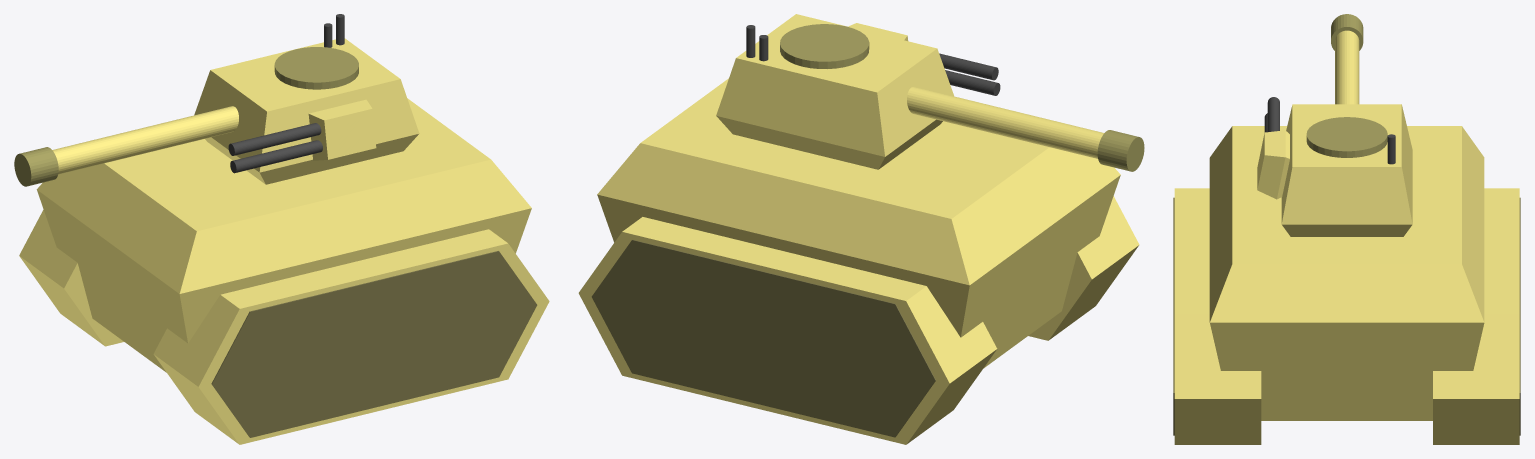
Rendered from doonTank.gltf.
The picture shows the model from 3 angles, left to right: view 1: azimuth 30°, elevation 25°; view 2: azimuth 150°, elevation 25°; view 3: azimuth 270°, elevation 25°; orthographic projection. The views are drawn at different scales.
Parts seen in each view (by area): view 1: Cube.003, Cube.006, Cube.001, Cube.004, Cylinder.001, Cube.002, Cylinder, Cube.005, Cylinder.002, Cylinder.003, Cylinder.004; view 2: Cube.003, Cube.007, Cube.004, Cube.002, Cylinder.001, Cube.001, Cylinder, Cylinder.002, Cylinder.003, Cylinder.004; view 3: Cube.003, Cube.004, Cube.001, Cube.002, Cylinder, Cube.005, Cylinder.001, Cylinder.002, Cube.006, Cube.007, Cylinder.003.
Boxes of the visible parts, left/top/right/bottom form: Cube.003: left=36, top=98, right=531, bottom=372; Cube.006: left=211, top=251, right=537, bottom=437; Cube.001: left=153, top=229, right=549, bottom=444; Cube.004: left=194, top=38, right=419, bottom=184; Cylinder.001: left=52, top=106, right=238, bottom=174; Cube.002: left=19, top=209, right=123, bottom=346; Cylinder: left=274, top=47, right=358, bottom=89; Cube.005: left=308, top=99, right=376, bottom=160; Cylinder.002: left=14, top=147, right=58, bottom=186; Cylinder.003: left=228, top=123, right=321, bottom=155; Cylinder.004: left=230, top=140, right=322, bottom=173; Cube.003: left=597, top=78, right=1120, bottom=368; Cube.007: left=591, top=239, right=935, bottom=437; Cube.004: left=716, top=14, right=953, bottom=169; Cube.002: left=578, top=217, right=997, bottom=444; Cylinder.001: left=907, top=86, right=1104, bottom=158; Cube.001: left=1028, top=196, right=1139, bottom=340; Cylinder: left=780, top=24, right=869, bottom=68; Cylinder.002: left=1097, top=130, right=1144, bottom=171; Cylinder.003: left=939, top=53, right=998, bottom=80; Cylinder.004: left=945, top=70, right=1000, bottom=95; Cube.003: left=1209, top=126, right=1484, bottom=420; Cube.004: left=1281, top=104, right=1412, bottom=236; Cube.001: left=1174, top=188, right=1261, bottom=444; Cube.002: left=1433, top=188, right=1519, bottom=444; Cylinder: left=1306, top=117, right=1387, bottom=157; Cube.005: left=1257, top=130, right=1289, bottom=199; Cylinder.001: left=1335, top=30, right=1359, bottom=104; Cylinder.002: left=1331, top=14, right=1363, bottom=50; Cube.006: left=1173, top=197, right=1174, bottom=435; Cube.007: left=1519, top=197, right=1520, bottom=435; Cylinder.003: left=1267, top=97, right=1279, bottom=131.
Size of the model in its own units: 2.39 by 1.54 by 1.71.
